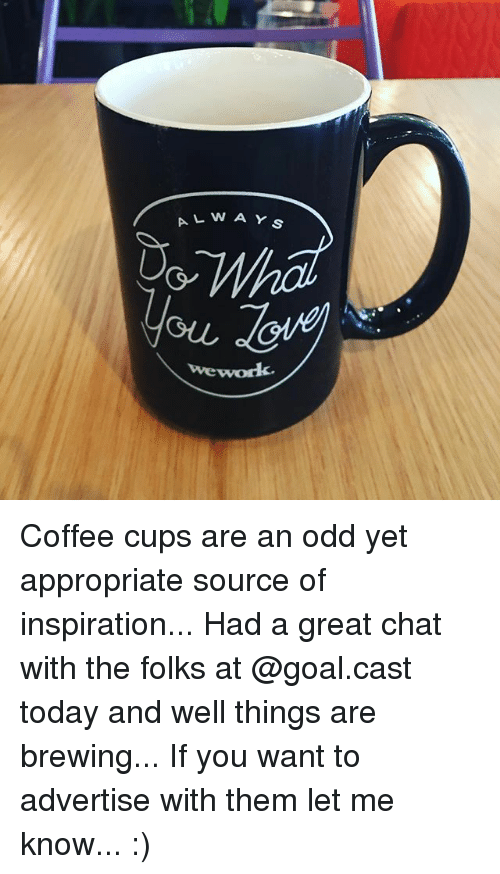wework: (187, 360, 272, 381)
